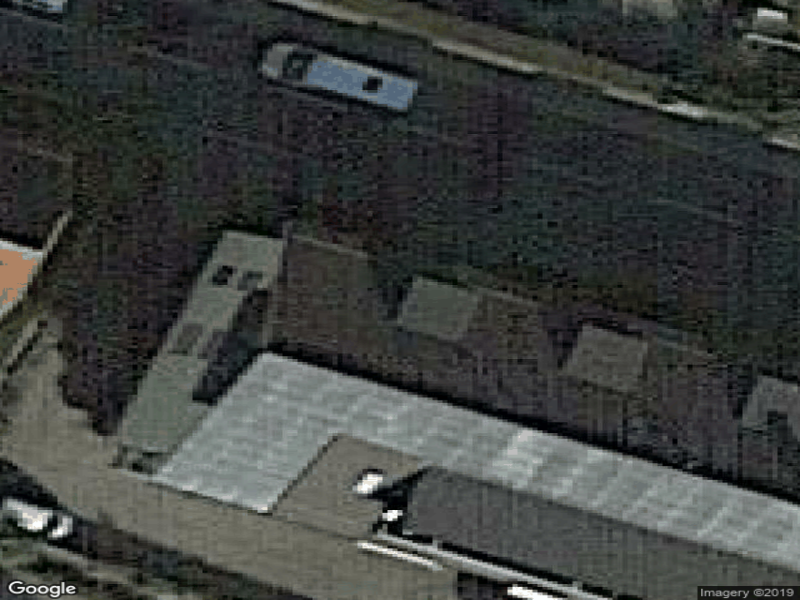pv: (156, 353, 800, 571)
